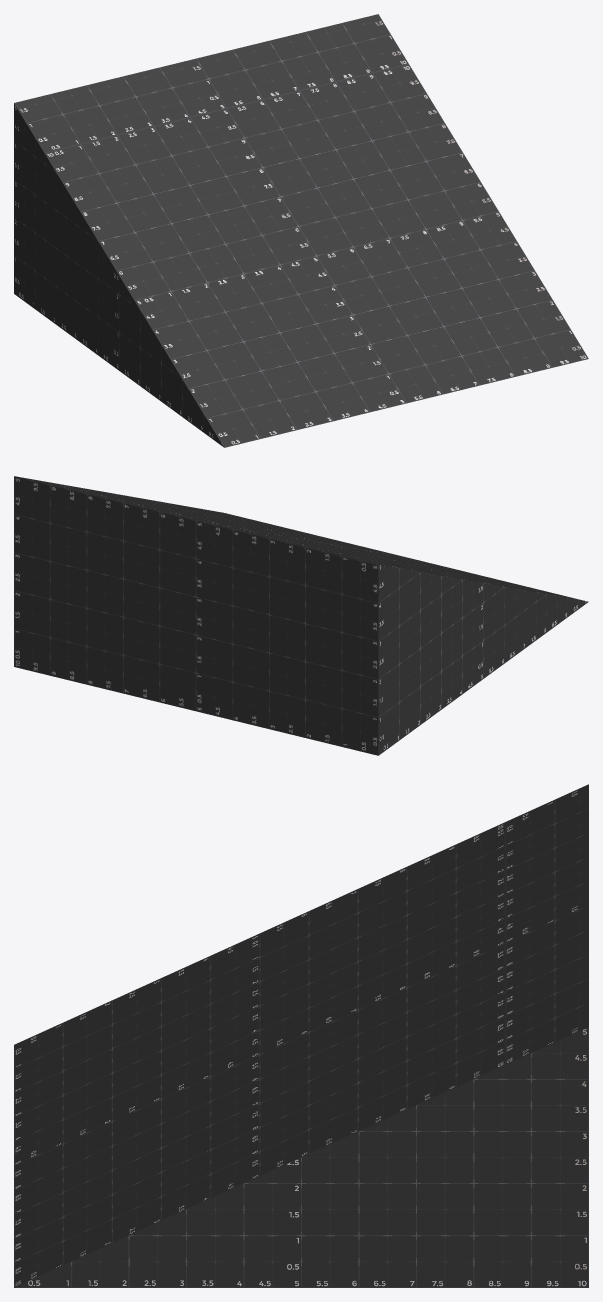
The model's file is WedgeFloor_05.fbx.
The picture shows the model from 3 angles, top to bottom: view 1: azimuth 30°, elevation 25°; view 2: azimuth 150°, elevation 25°; view 3: azimuth 270°, elevation 25°; orthographic projection. The views are drawn at different scales.
Parts seen in each view (by area): view 1: WedgeFloor_05; view 2: WedgeFloor_05; view 3: WedgeFloor_05.
Boxes of the visible parts, <box> form: WedgeFloor_05: <box>14,14,588,447</box>; WedgeFloor_05: <box>14,476,588,755</box>; WedgeFloor_05: <box>14,784,588,1287</box>.
Bounding box in the file's own units: 10 × 5 × 10.
